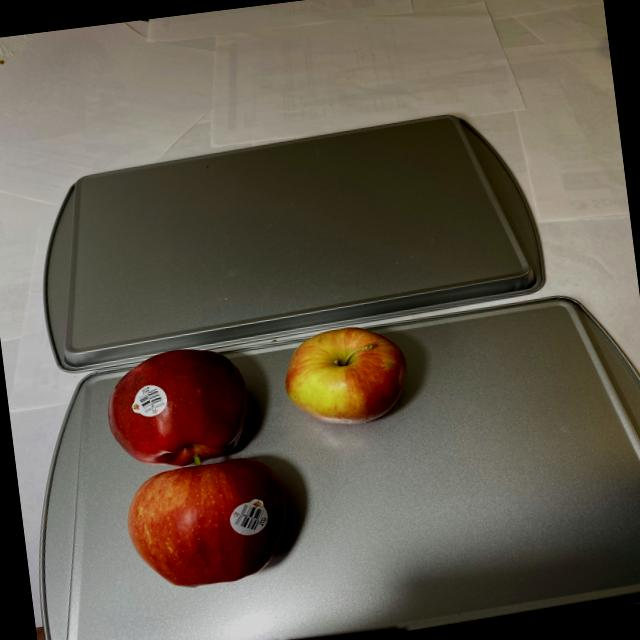apple: (99, 320, 434, 596)
